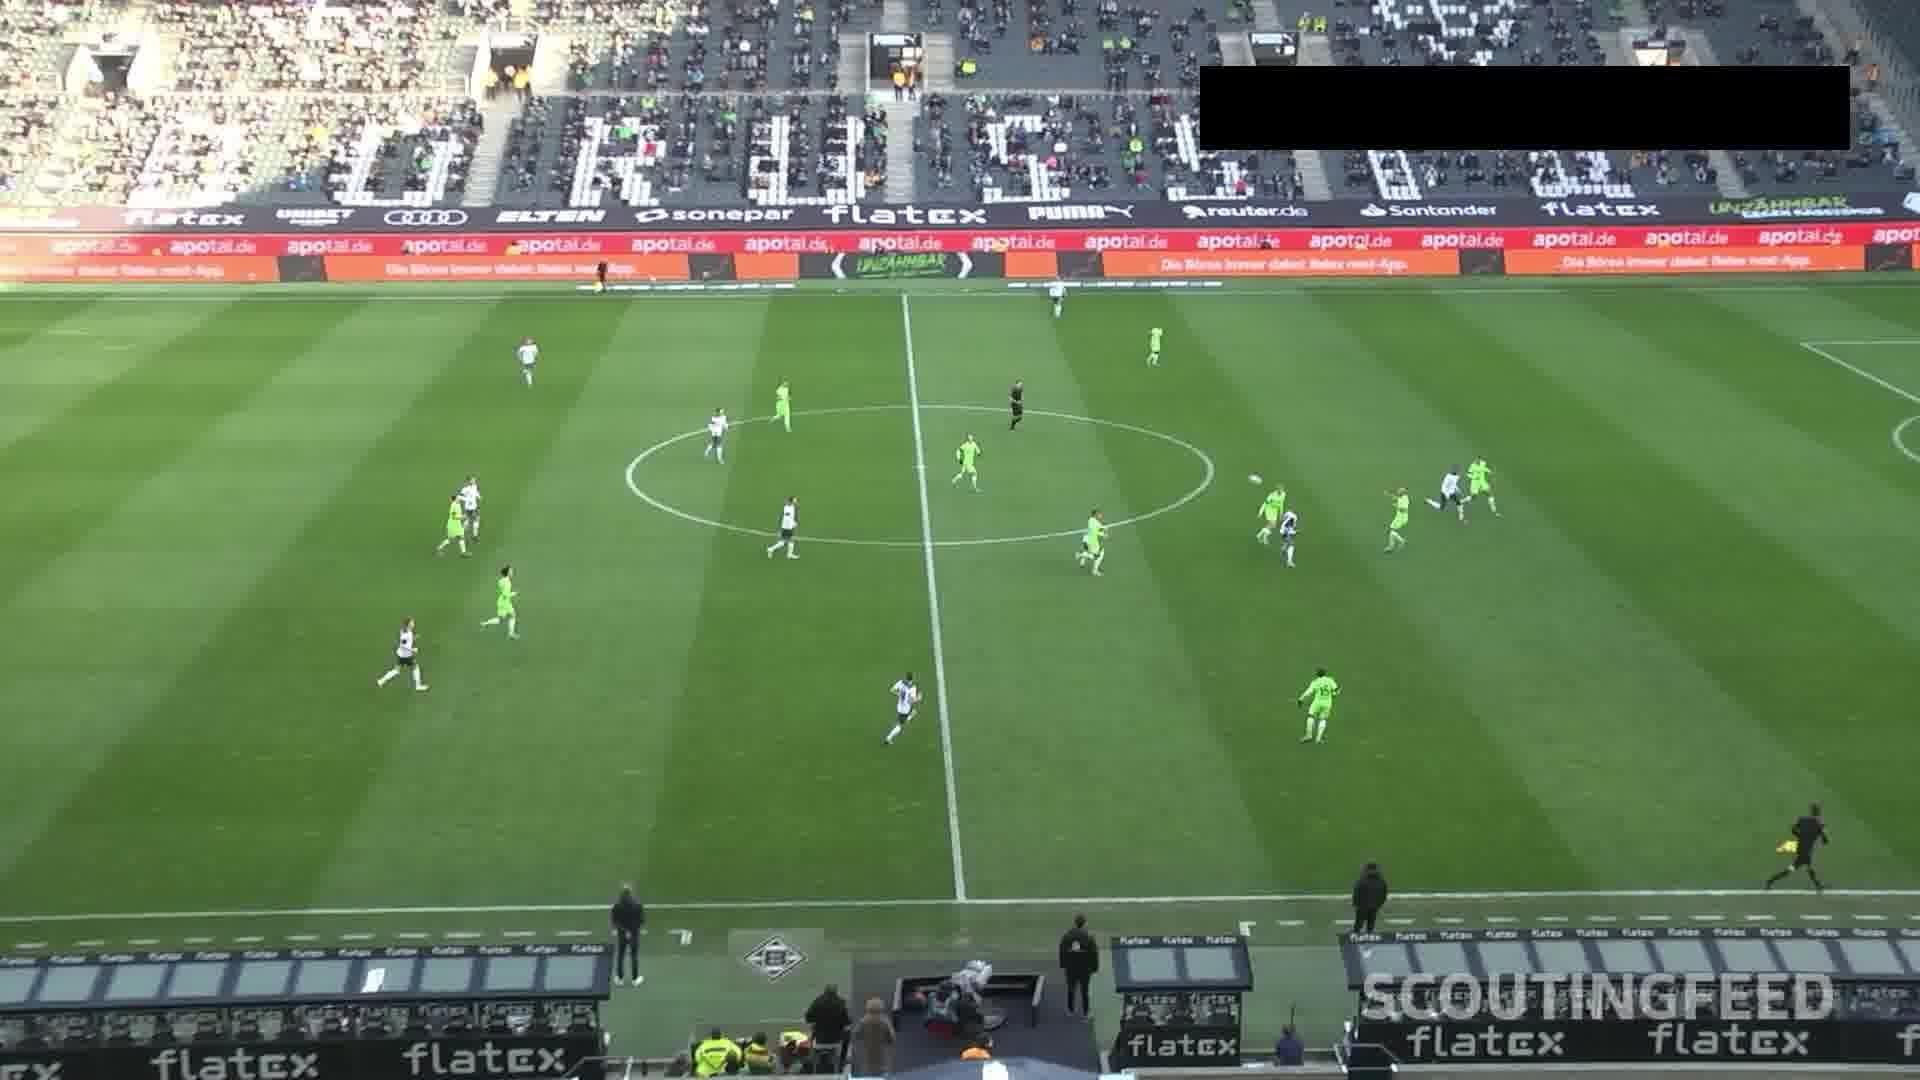football: (1247, 472, 1263, 487)
